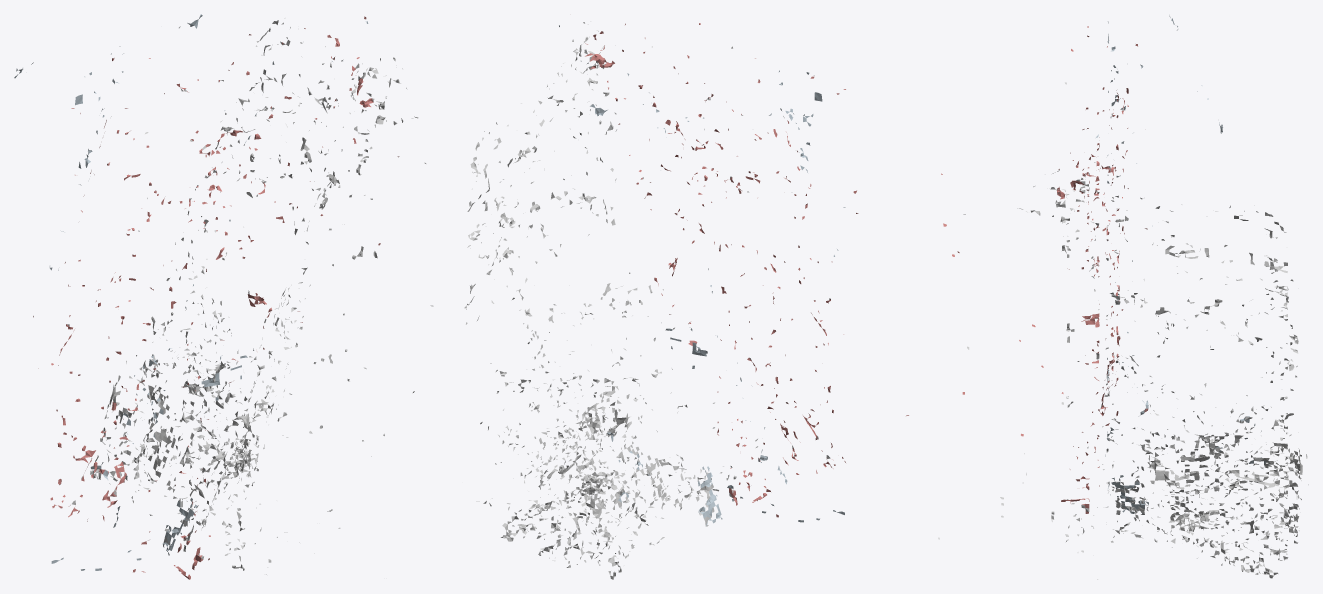
The model's file is B173-뜬면-2__nojudge_ALS_s0__removed.glb.
The picture shows the model from 3 angles, left to right: view 1: azimuth 30°, elevation 25°; view 2: azimuth 150°, elevation 25°; view 3: azimuth 270°, elevation 25°; orthographic projection. The views are drawn at different scales.
Bounding box in the file's own units: 26.15 × 40.38 × 29.84.
